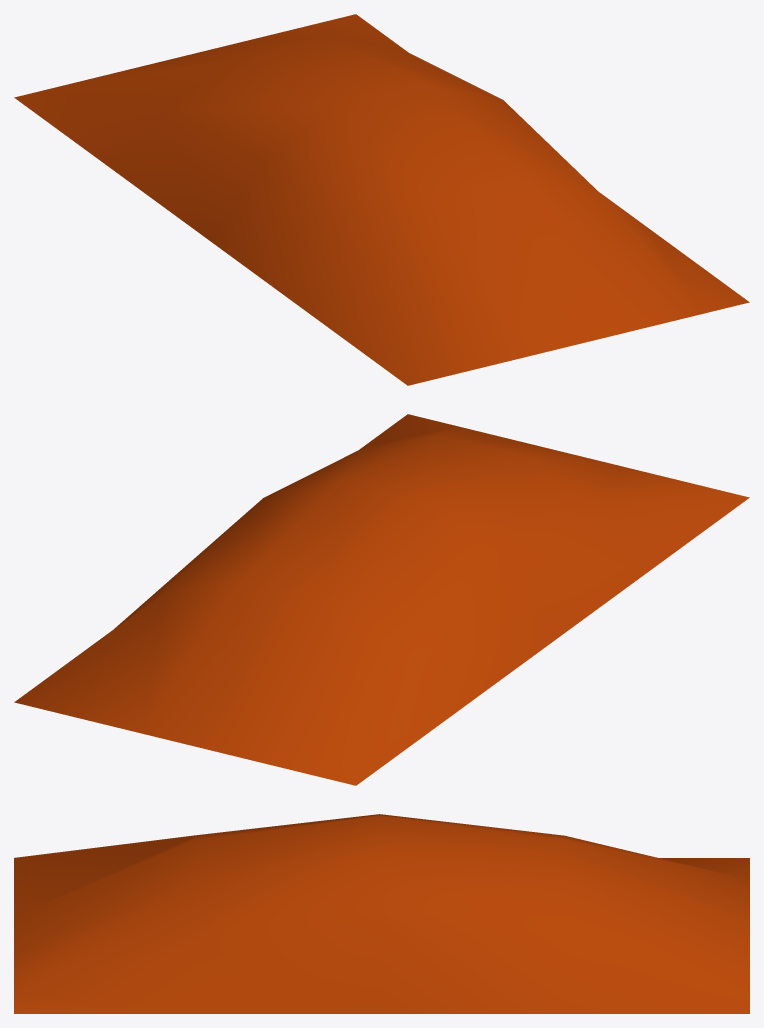
The model's file is DirtMound.fbx.
3 views of the same model, one above another, from view 1: azimuth 30°, elevation 25°; view 2: azimuth 150°, elevation 25°; view 3: azimuth 270°, elevation 25° (orthographic). The views are drawn at different scales.
Parts seen in each view (by area): view 1: DirtMound 2; view 2: DirtMound 2; view 3: DirtMound 2.
Part boxes in pixels (x1,y1,x2,y2): DirtMound 2: (14, 14, 749, 385); DirtMound 2: (14, 414, 749, 785); DirtMound 2: (14, 814, 749, 1013).
Bounding box in the file's own units: 70.4 × 20.88 × 140.
